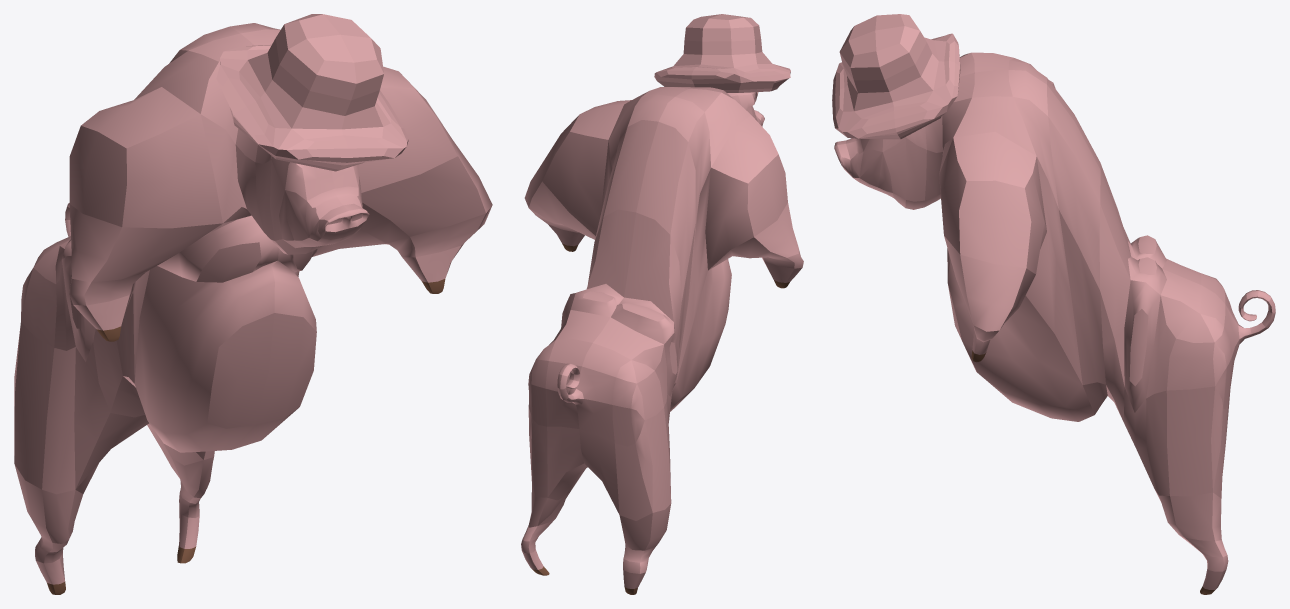
Rendered from capitalist pig.fbx.
The picture shows the model from 3 angles, left to right: view 1: azimuth 30°, elevation 25°; view 2: azimuth 150°, elevation 25°; view 3: azimuth 270°, elevation 25°; orthographic projection. The views are drawn at different scales.
Parts seen in each view (by area): view 1: Pig; view 2: Pig; view 3: Pig.
Boxes of the visible parts, bbox=[...] form: Pig: bbox=[14, 14, 492, 594]; Pig: bbox=[521, 14, 803, 594]; Pig: bbox=[832, 14, 1275, 594].
Bounding box in the file's own units: 781 × 1251 × 916.
